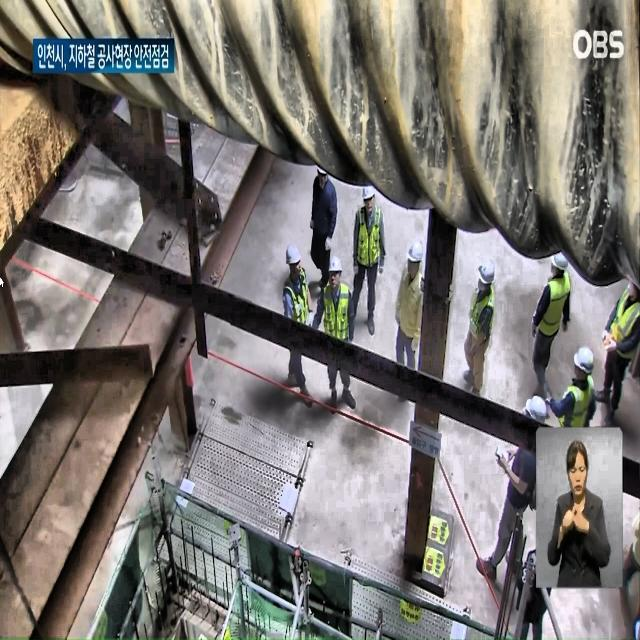safety_helmet: (574, 328, 606, 383), (536, 244, 568, 292), (468, 256, 498, 306), (278, 236, 306, 279), (354, 175, 378, 219), (526, 400, 554, 436), (401, 242, 422, 278), (322, 248, 340, 280)
safety_jacket: (351, 218, 406, 310), (534, 284, 580, 364), (320, 282, 362, 359), (596, 290, 640, 362), (277, 279, 311, 347), (461, 295, 502, 349), (558, 377, 588, 438)
